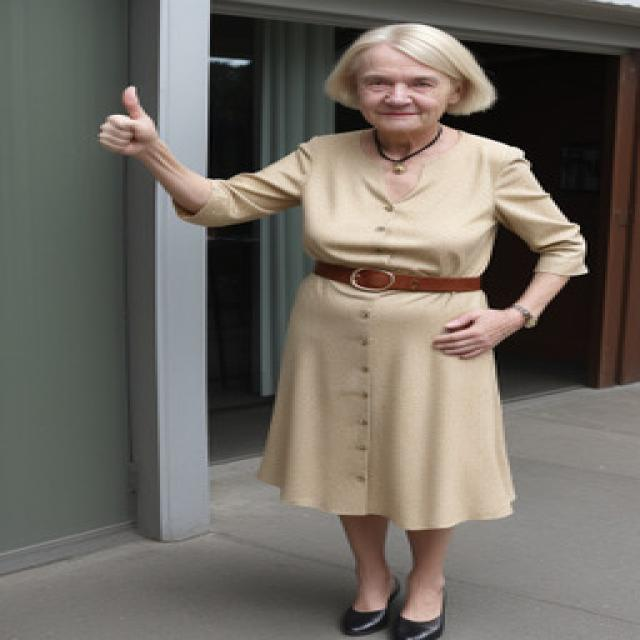Ai human 2: (88, 18, 600, 640)
